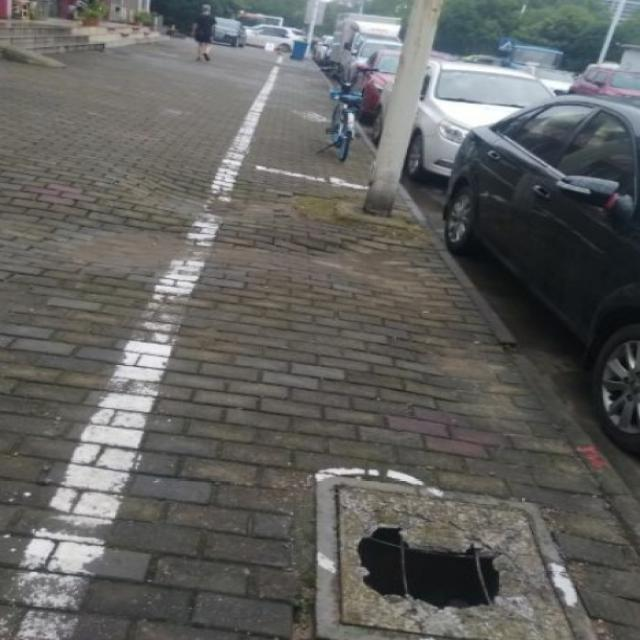Faulty: (311, 479, 598, 640)
